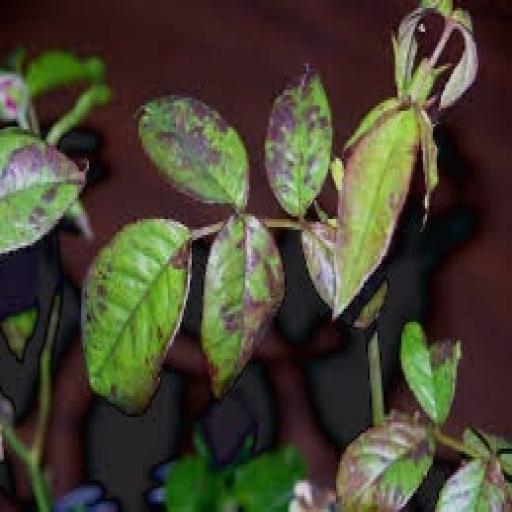downy_mildew: (84, 220, 189, 411), (335, 109, 419, 316), (202, 217, 284, 395), (139, 96, 249, 211), (0, 130, 85, 253), (265, 69, 332, 216), (337, 417, 434, 511), (400, 322, 460, 424), (232, 447, 306, 511), (435, 457, 511, 511), (439, 11, 478, 108), (26, 51, 104, 97), (165, 457, 223, 511), (301, 222, 336, 308), (418, 109, 438, 219), (0, 307, 39, 361), (0, 72, 29, 124)
